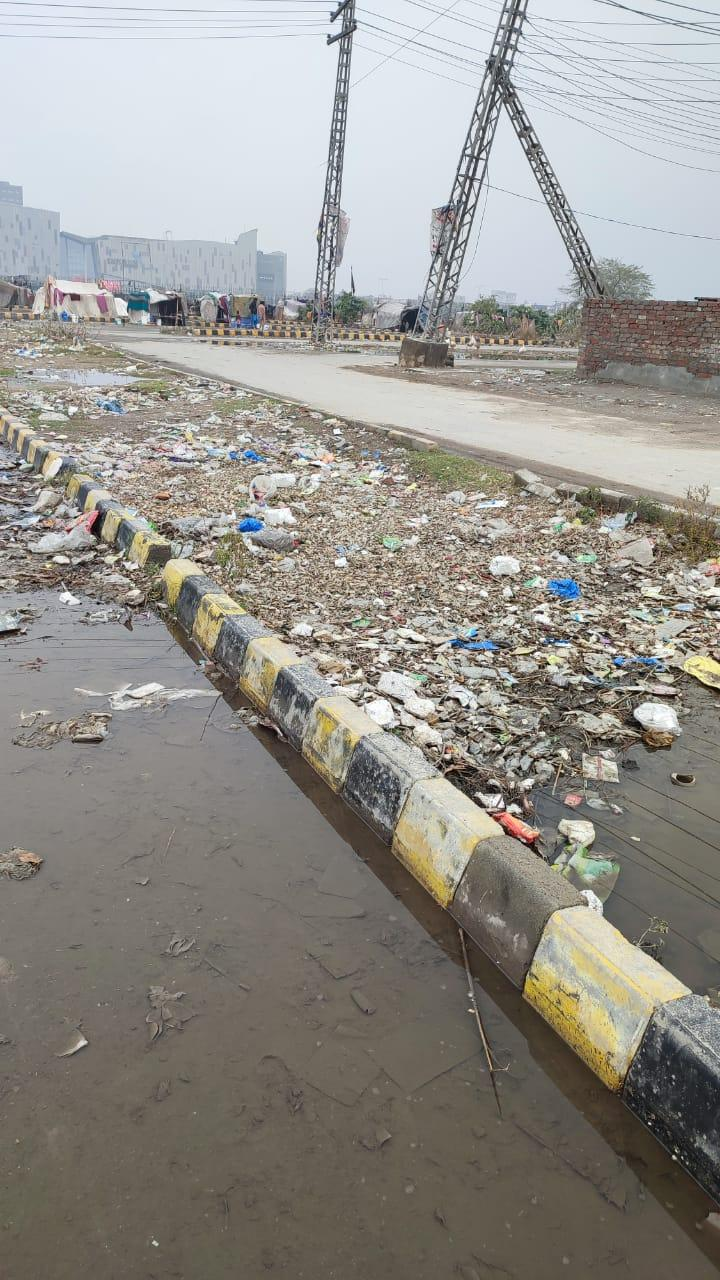garbage: (211, 453, 720, 943)
